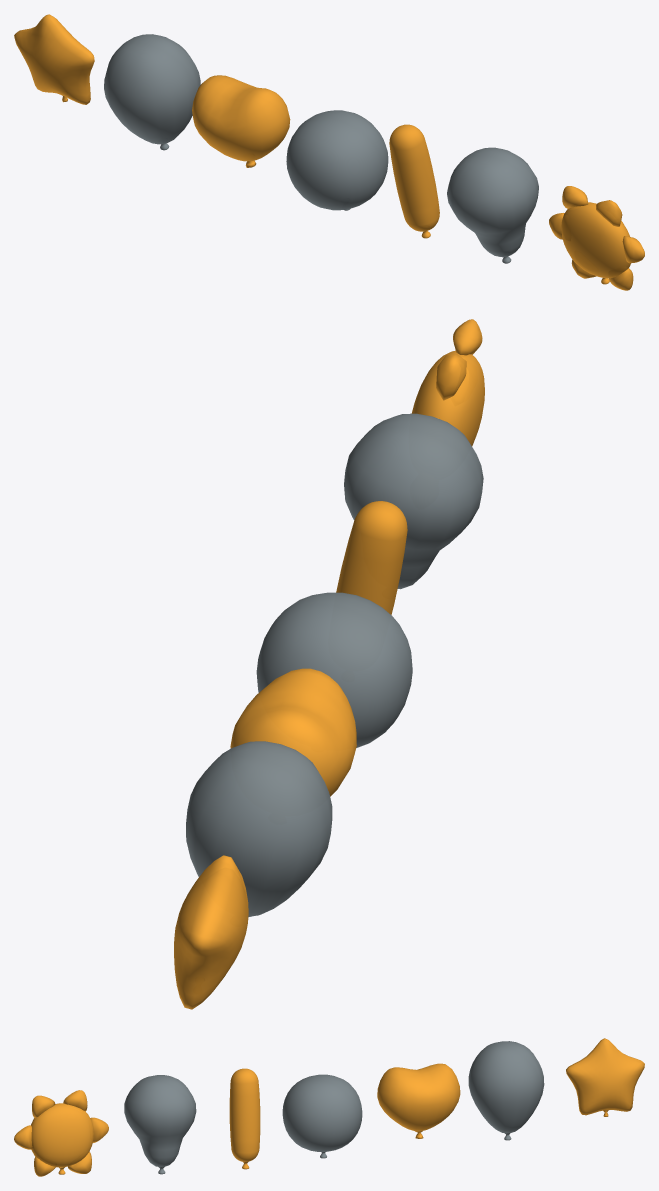
The model's file is baloon1.gltf.
3 renders of one model, top to bottom at view 1: azimuth 30°, elevation 25°; view 2: azimuth 150°, elevation 25°; view 3: azimuth 270°, elevation 25°, orthographic. The views are drawn at different scales.
Parts seen in each view (by area): view 1: Object_14, Object_11; view 2: Object_14, Object_11; view 3: Object_11, Object_14.
Part boxes in pixels (bbox=[...]): Object_14: bbox=[104, 34, 538, 263]; Object_11: bbox=[14, 14, 644, 290]; Object_14: bbox=[186, 413, 483, 917]; Object_11: bbox=[174, 319, 484, 1009]; Object_11: bbox=[14, 1038, 644, 1176]; Object_14: bbox=[124, 1041, 544, 1174].
Size of the model in its own units: 2.79 by 1.46 by 8.03.
